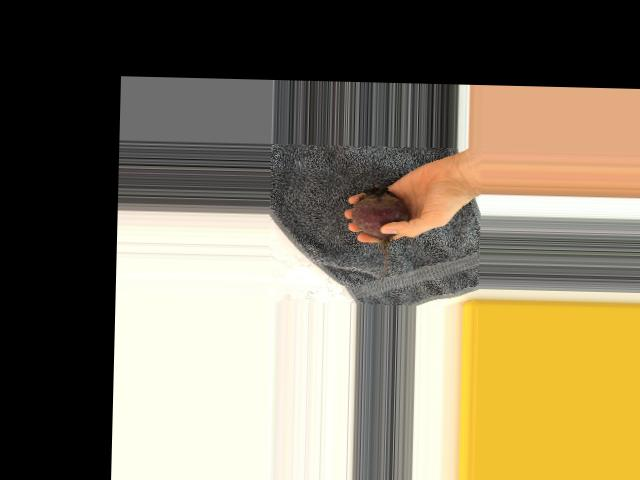beet: (349, 186, 409, 282)
